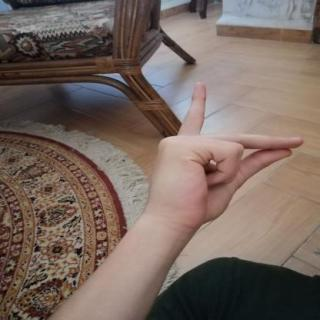TAA: (136, 75, 314, 238)
